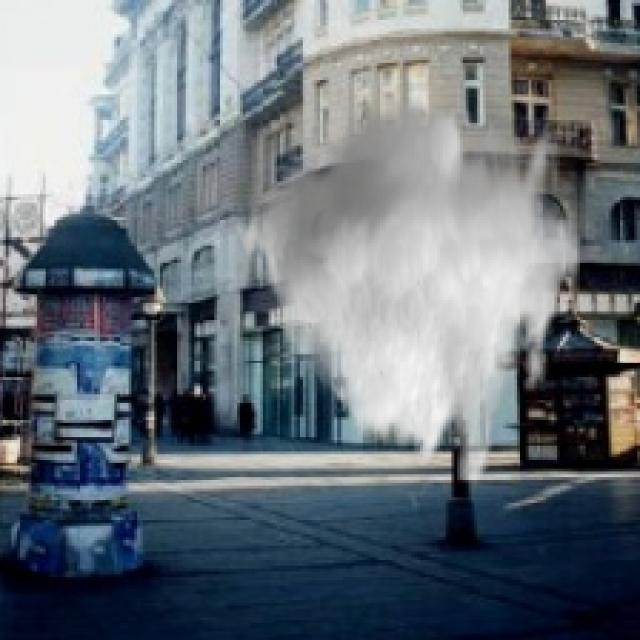smoke: (231, 91, 580, 483)
